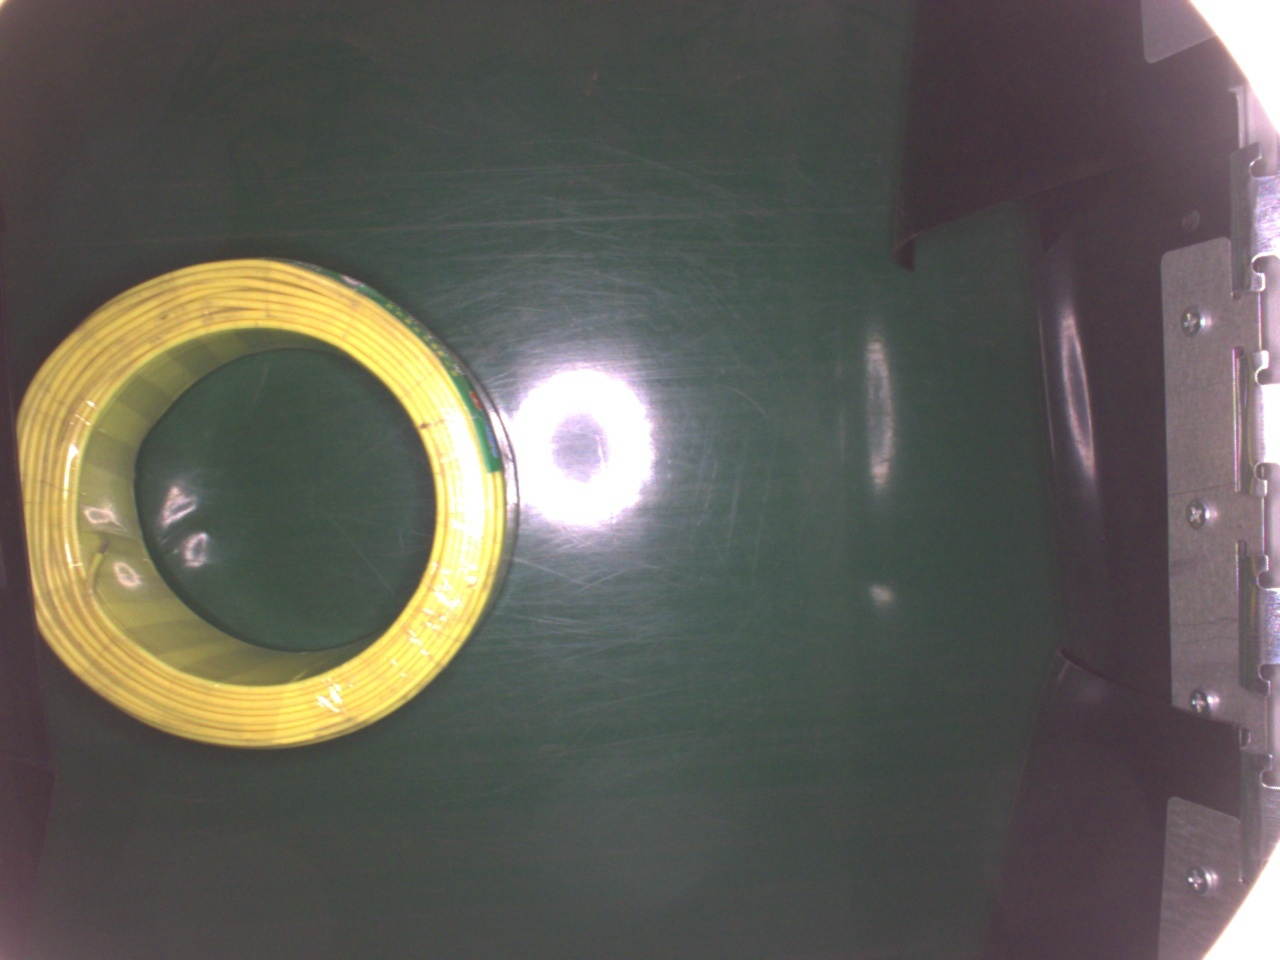yellow: (15, 254, 523, 753)
